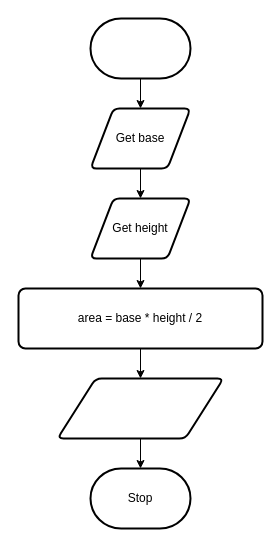
Image size: 280x546. Some labels were removed from this diagram. Here are the shapes that lost their labels. From the top down, the box of each, then its label:
(89, 17, 191, 79): Start
(56, 377, 224, 439): Display area
